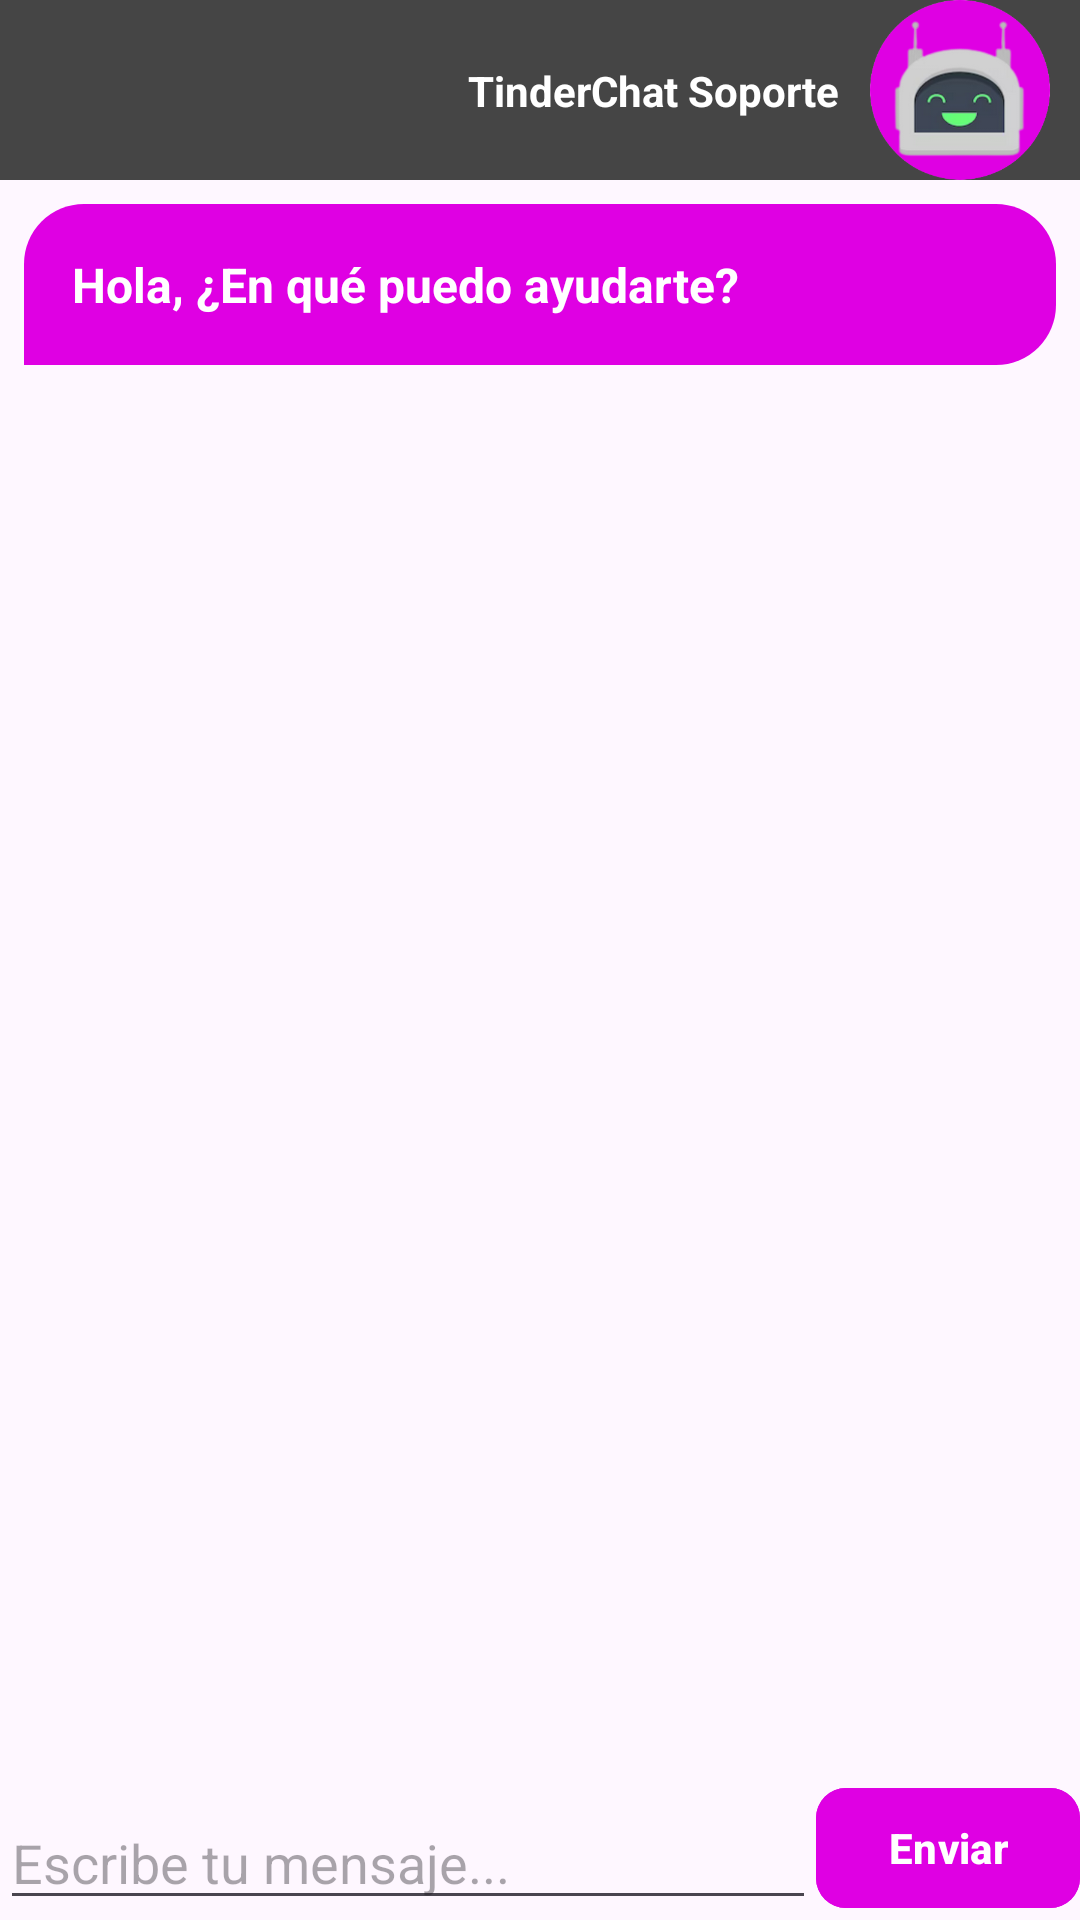

Icons on this 1080×1920 Android screen, each with the point to tap as point (x, y):
robot: point (960, 90)
